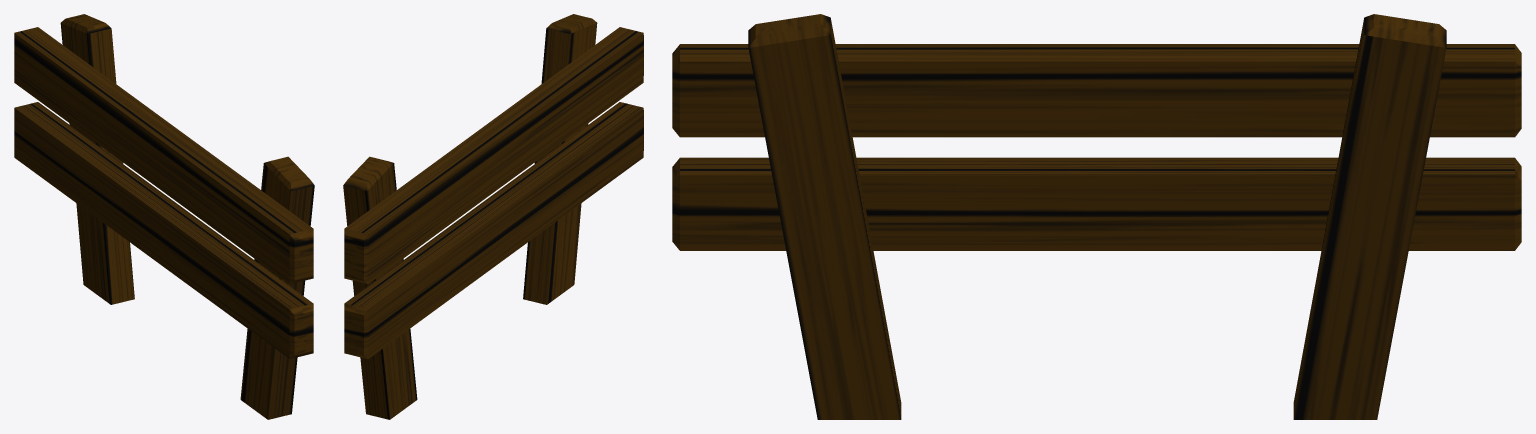
Rendered from Barrier.fbx.
3 renders of one model, left to right at view 1: azimuth 30°, elevation 25°; view 2: azimuth 150°, elevation 25°; view 3: azimuth 270°, elevation 25°, orthographic. The views are drawn at different scales.
Visible parts, largest first — view 1: Cube; view 2: Cube; view 3: Cube.
Boxes of the visible parts, x1,y1,x2,y2 form: Cube: (14,14,314,419); Cube: (343,14,643,419); Cube: (672,14,1521,419).
Bounding box in the file's own units: 20 × 103 × 203.
